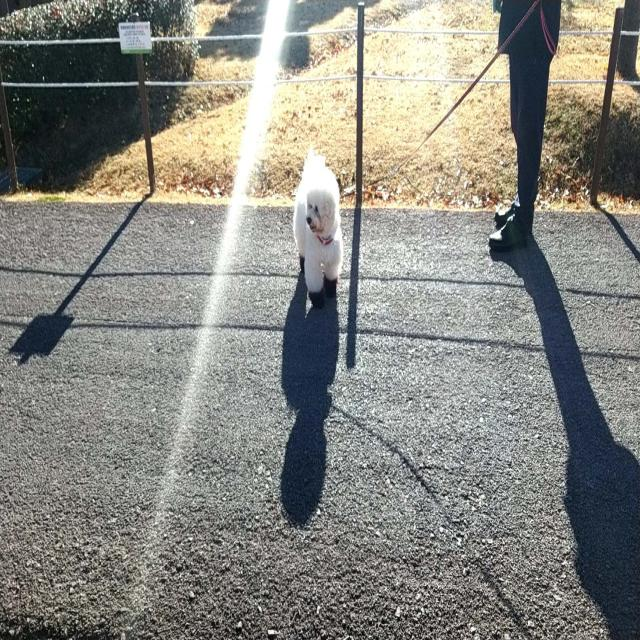Leashed_Dog: (293, 0, 534, 311)
